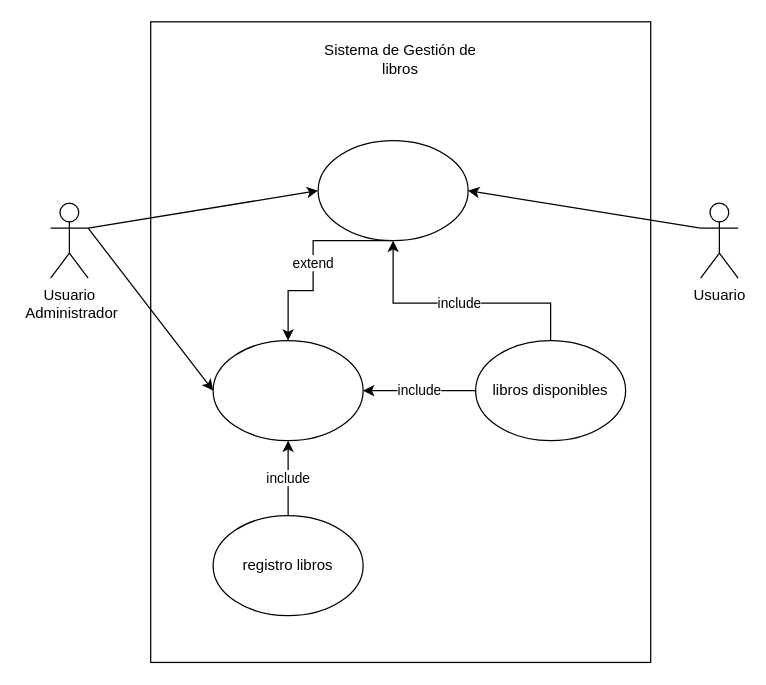
This 766x685 diagram has some shape labels left out. Each missing label, with the centre of its shape:
"genera informe" belongs at [287,390].
"Inicio sesion" belongs at [392,190].
